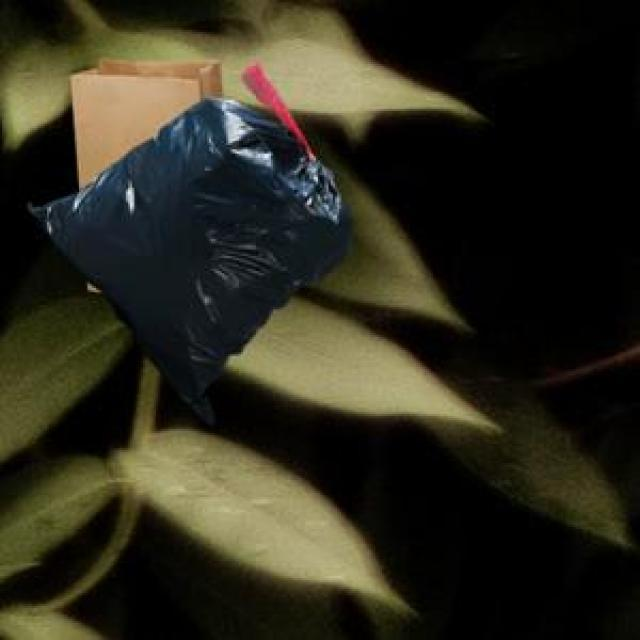miscellaneous trash: (24, 60, 348, 420)
paper: (66, 56, 217, 186)
